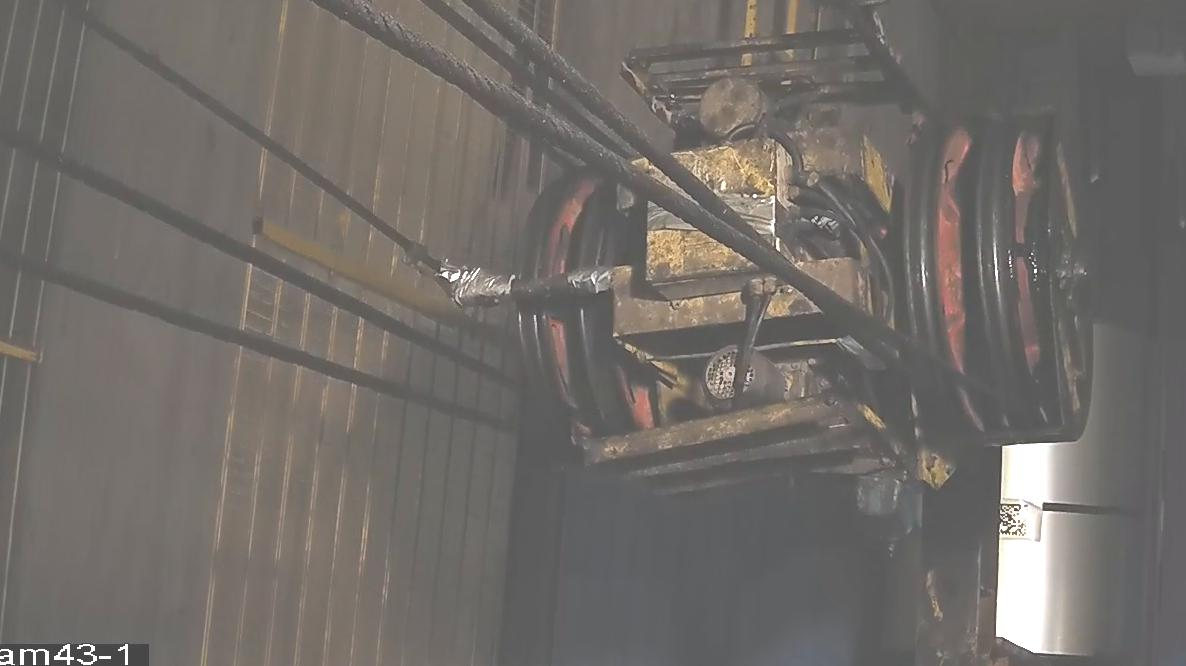data matrix: (999, 502, 1033, 540)
